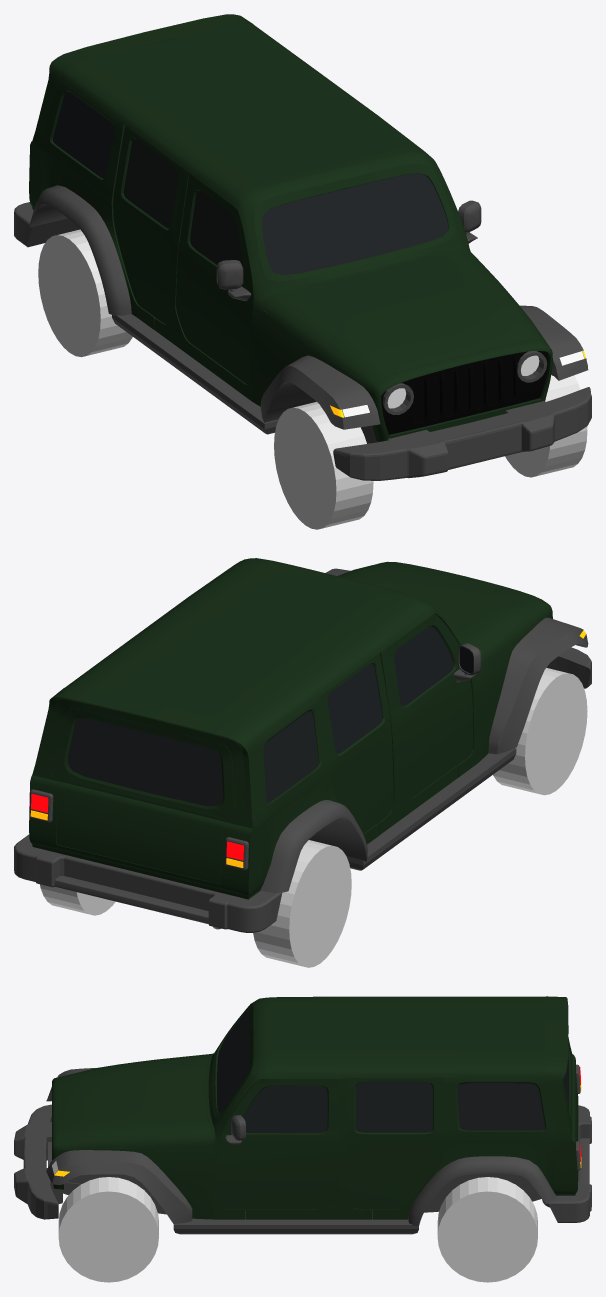
File: Jeep.fbx
3 renders of one model, top to bottom at view 1: azimuth 30°, elevation 25°; view 2: azimuth 150°, elevation 25°; view 3: azimuth 270°, elevation 25°, orthographic. The views are drawn at different scales.
Visible parts, largest first — view 1: Body, Glass, WheelSet; view 2: Body, Glass, WheelSet, RearBrakeLight; view 3: Body, WheelSet, Glass.
Boxes of the visible parts, bbox=[...] form: Body: bbox=[14, 14, 591, 480]; Glass: bbox=[52, 91, 447, 282]; WheelSet: bbox=[38, 229, 587, 529]; Body: bbox=[14, 558, 591, 932]; Glass: bbox=[68, 626, 453, 806]; WheelSet: bbox=[40, 668, 587, 967]; RearBrakeLight: bbox=[31, 793, 243, 860]; Body: bbox=[14, 996, 591, 1234]; WheelSet: bbox=[58, 1177, 537, 1282]; Glass: bbox=[217, 1011, 568, 1133].
Bounding box in the file's own units: 194 × 180 × 461.
